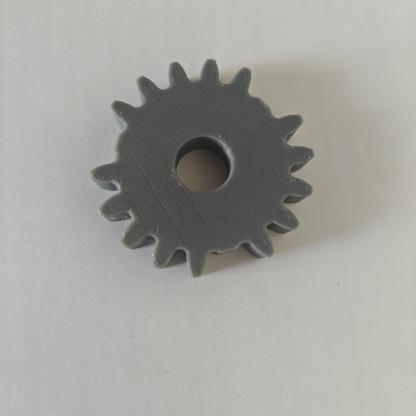defect: (79, 87, 161, 195), (232, 66, 316, 146), (197, 227, 274, 271)
gear: (66, 47, 354, 292)
